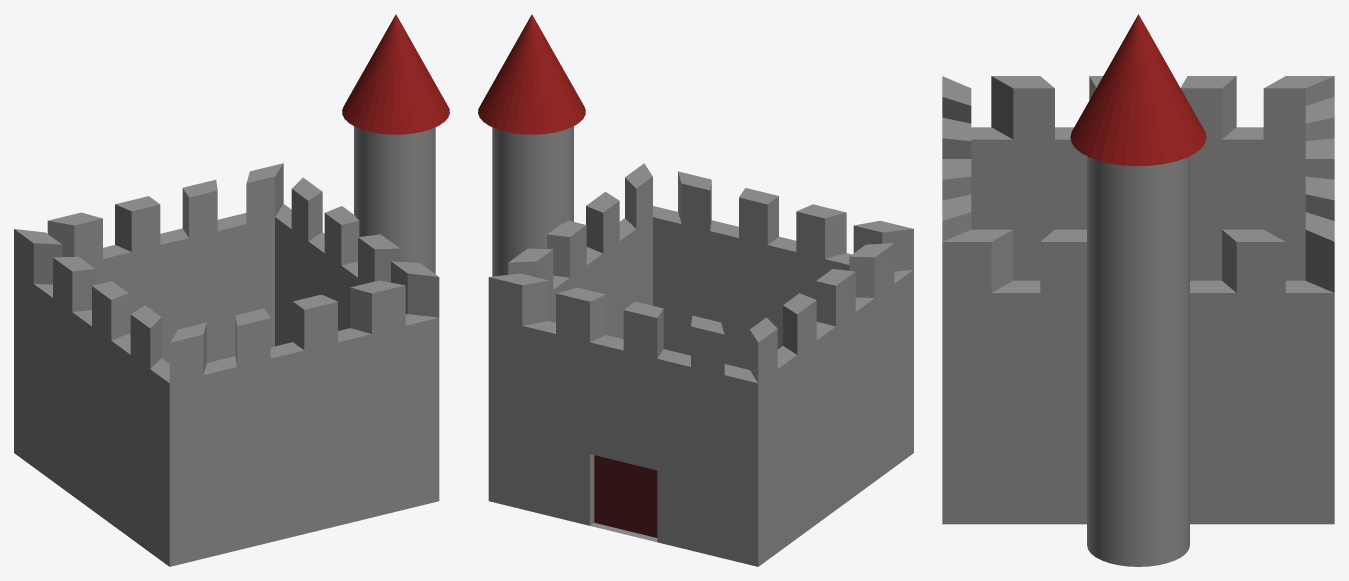
File: Musée.fbx
The picture shows the model from 3 angles, left to right: view 1: azimuth 30°, elevation 25°; view 2: azimuth 150°, elevation 25°; view 3: azimuth 270°, elevation 25°; orthographic projection. The views are drawn at different scales.
Visible parts, largest first — view 1: Cube.001, Cylinder, Cone; view 2: Cube.001, Cylinder, Cone; view 3: Cube.001, Cylinder, Cone.
Boxes of the visible parts, x1=… form: Cube.001: x1=14, y1=163, x2=439, y2=566; Cylinder: x1=354, y1=126, x2=435, y2=273; Cone: x1=342, y1=14, x2=449, y2=134; Cube.001: x1=488, y1=163, x2=913, y2=566; Cylinder: x1=492, y1=126, x2=573, y2=276; Cone: x1=478, y1=14, x2=585, y2=134; Cube.001: x1=942, y1=76, x2=1334, y2=524; Cylinder: x1=1087, y1=156, x2=1189, y2=566; Cone: x1=1070, y1=14, x2=1206, y2=166.
Size of the model in its own units: 555 by 638 by 427.
